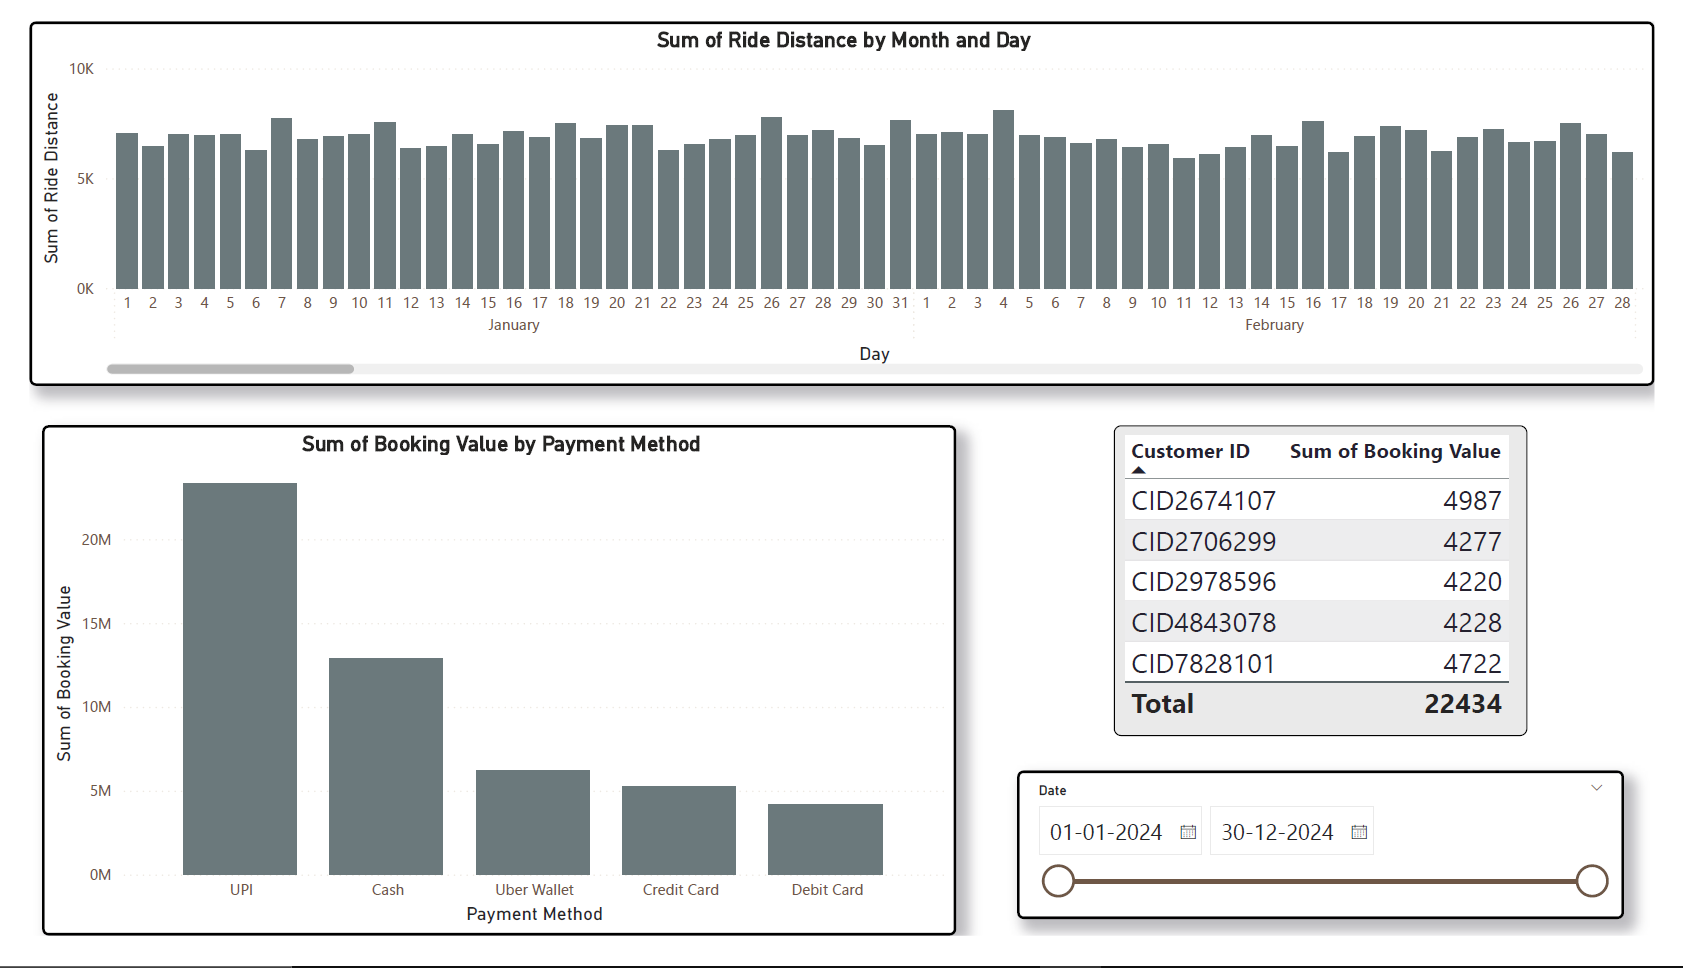

The dashboard page shown, as its layout file describes it:
{"tool":"powerbi","page":{"name":"Revenue","canvas":[1280,720],"ordinal":3},"visuals":[{"type":"columnChart","fields":{"Category":["rideBookings.Date.Variation.Date Hierarchy.Month","rideBookings.Date.Variation.Date Hierarchy.Day"],"Y":["Sum(rideBookings.Ride Distance)"]},"box":[0,0,1280.3,286.8],"z":0},{"type":"columnChart","fields":{"Y":["Sum(rideBookings.Booking Value)"],"Category":["rideBookings.Payment Method"]},"box":[9.6,318.4,720.4,402.1],"z":1000},{"type":"slicer","fields":{"Values":["rideBookings.Date"]},"box":[778,590.1,477.5,116.6],"z":2000},{"type":"tableEx","fields":{"Values":["rideBookings.Customer ID","Sum(rideBookings.Booking Value)"]},"box":[853.5,318.4,326.6,244.3],"z":3000}]}

Visuals, with their boxes in screenshot pixels (x1, y1, x2, y2), scaled from the page's 1280x720 canvas onto the 1683x968 screenshot:
columnChart - rideBookings.Date.Variation.Date Hierarchy.Month x rideBookings.Date.Variation.Date Hierarchy.Day: BBox(0, 0, 1682, 386)
columnChart - Sum(rideBookings.Booking Value) x rideBookings.Payment Method: BBox(13, 428, 960, 967)
slicer - rideBookings.Date: BBox(1023, 793, 1651, 950)
tableEx - rideBookings.Customer ID x Sum(rideBookings.Booking Value): BBox(1122, 428, 1552, 757)
